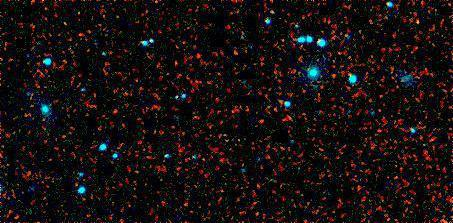star: (402, 5, 432, 35)
